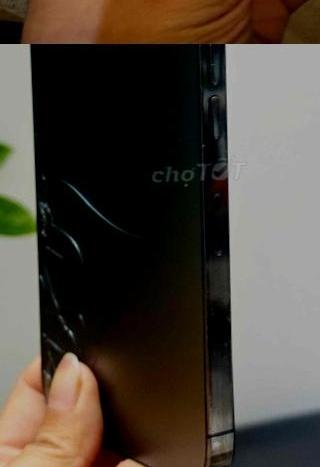physical_damage: (19, 137, 155, 433)
scratch: (178, 44, 232, 218)
